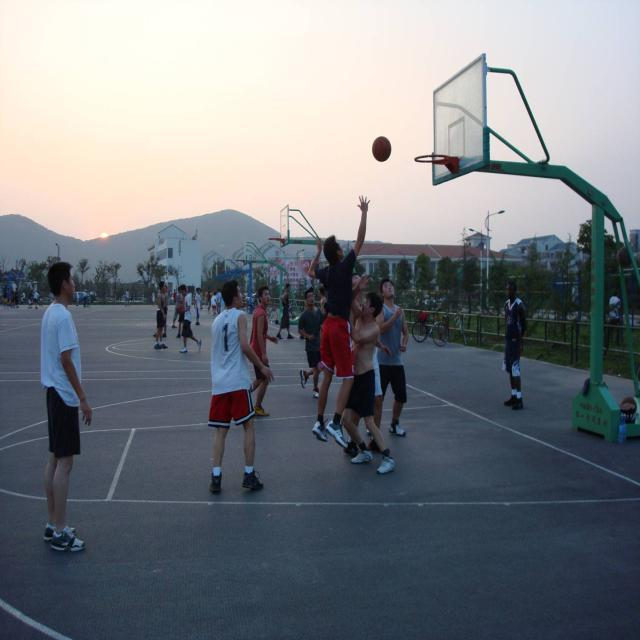body: (306, 192, 372, 452), (37, 258, 94, 556), (205, 277, 276, 496), (344, 269, 396, 476), (341, 270, 392, 458), (368, 274, 411, 448), (248, 284, 280, 418), (501, 280, 529, 412), (298, 289, 328, 399), (177, 283, 202, 354), (274, 282, 295, 340), (153, 280, 169, 350), (606, 287, 621, 346), (299, 286, 315, 340), (152, 284, 168, 338), (175, 286, 185, 339), (171, 286, 182, 328), (617, 294, 624, 344), (193, 287, 202, 324), (317, 286, 327, 314), (194, 288, 202, 322), (210, 291, 218, 317), (215, 287, 222, 315), (27, 288, 34, 309), (2, 285, 8, 309), (251, 290, 259, 308), (165, 283, 171, 306), (82, 288, 89, 307), (207, 286, 212, 312), (47, 290, 55, 306), (14, 287, 20, 308), (10, 288, 15, 310), (220, 297, 226, 314), (39, 288, 44, 308), (125, 288, 130, 307), (74, 288, 79, 306), (204, 288, 208, 309), (130, 288, 135, 304), (20, 290, 26, 303), (6, 287, 11, 302), (86, 293, 91, 307), (173, 289, 177, 303), (188, 289, 193, 298), (33, 290, 37, 296)
